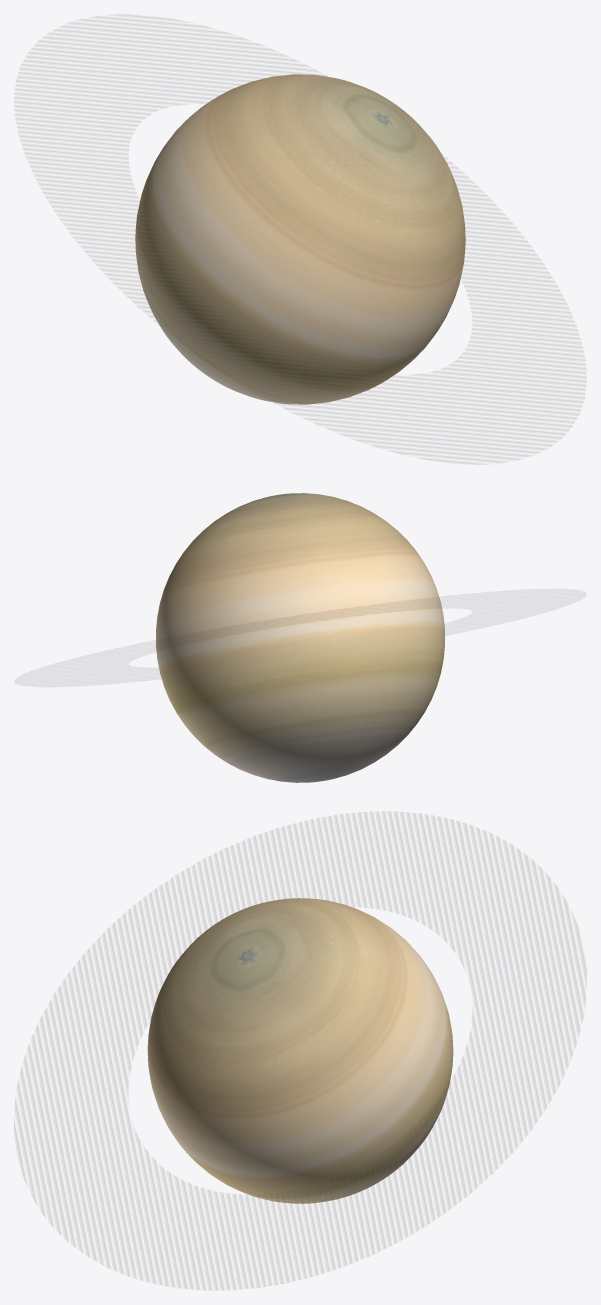
The picture shows the model from 3 angles, top to bottom: view 1: azimuth 30°, elevation 25°; view 2: azimuth 150°, elevation 25°; view 3: azimuth 270°, elevation 25°; orthographic projection. The views are drawn at different scales.
Parts seen in each view (by area): view 1: Sphere, Tube.1; view 2: Sphere; view 3: Sphere, Tube.1.
Part boxes in pixels (box(x1,y1,x2,y2)): Sphere: box(135, 74, 465, 404); Tube.1: box(14, 14, 586, 464); Sphere: box(156, 493, 444, 782); Sphere: box(147, 898, 453, 1203); Tube.1: box(14, 812, 586, 1289).
Bounding box in the file's own units: 371 × 204 × 375.
Materials: 2 (2 with a texture image).
